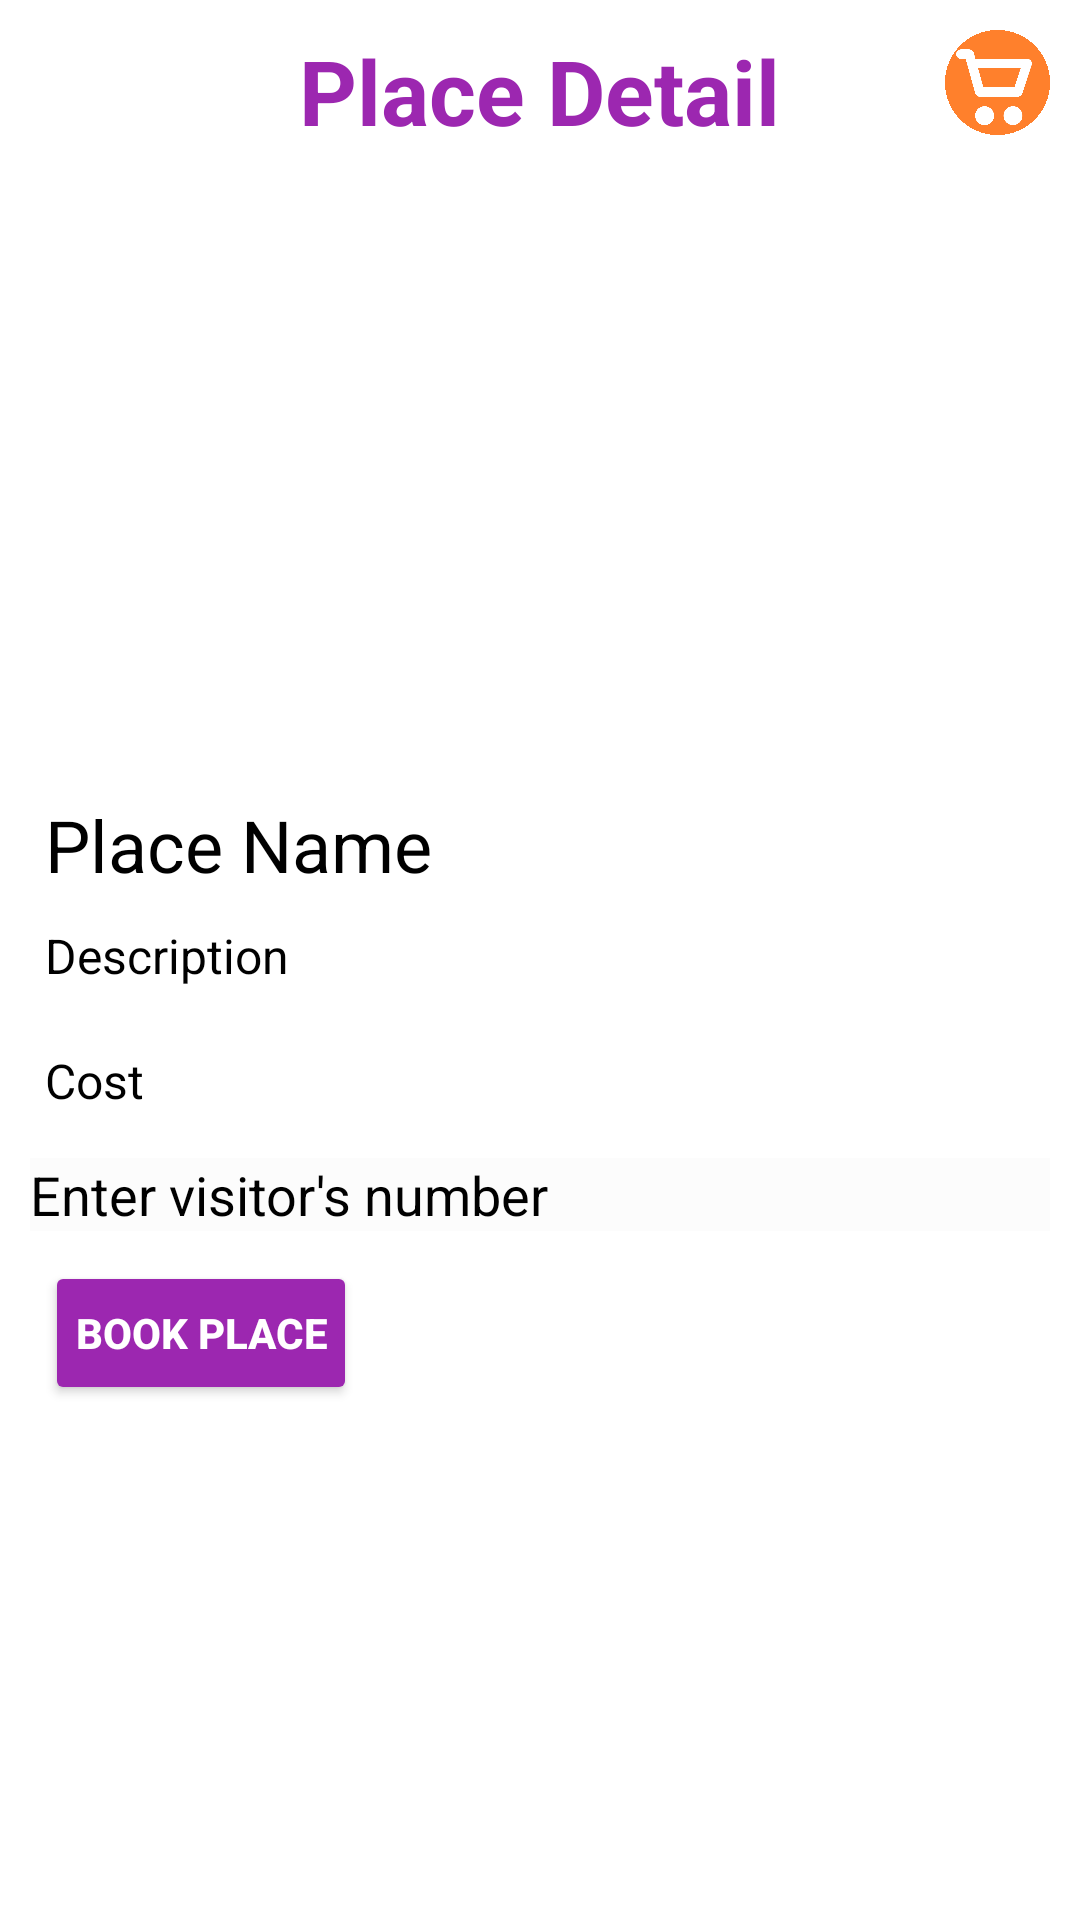

Icons on this 1080px x 1920px Android screen, each with its box as (x1, y1, x2, y2):
cart: (945, 30, 1050, 135)
